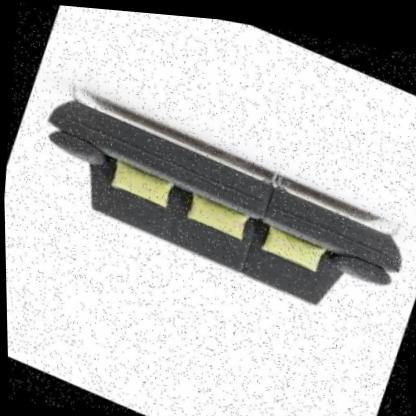Sofa: (1, 38, 416, 350)
